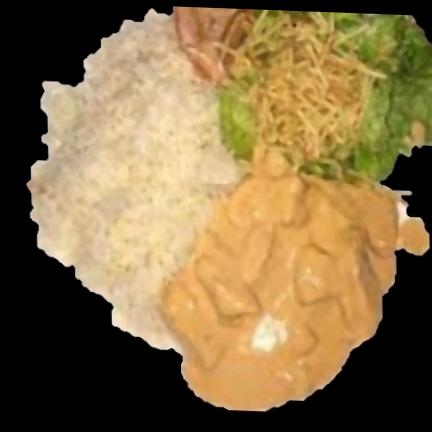chicken: (163, 173, 398, 410)
potato: (249, 16, 372, 160)
rice: (27, 9, 239, 350)
salad: (220, 9, 432, 180)
